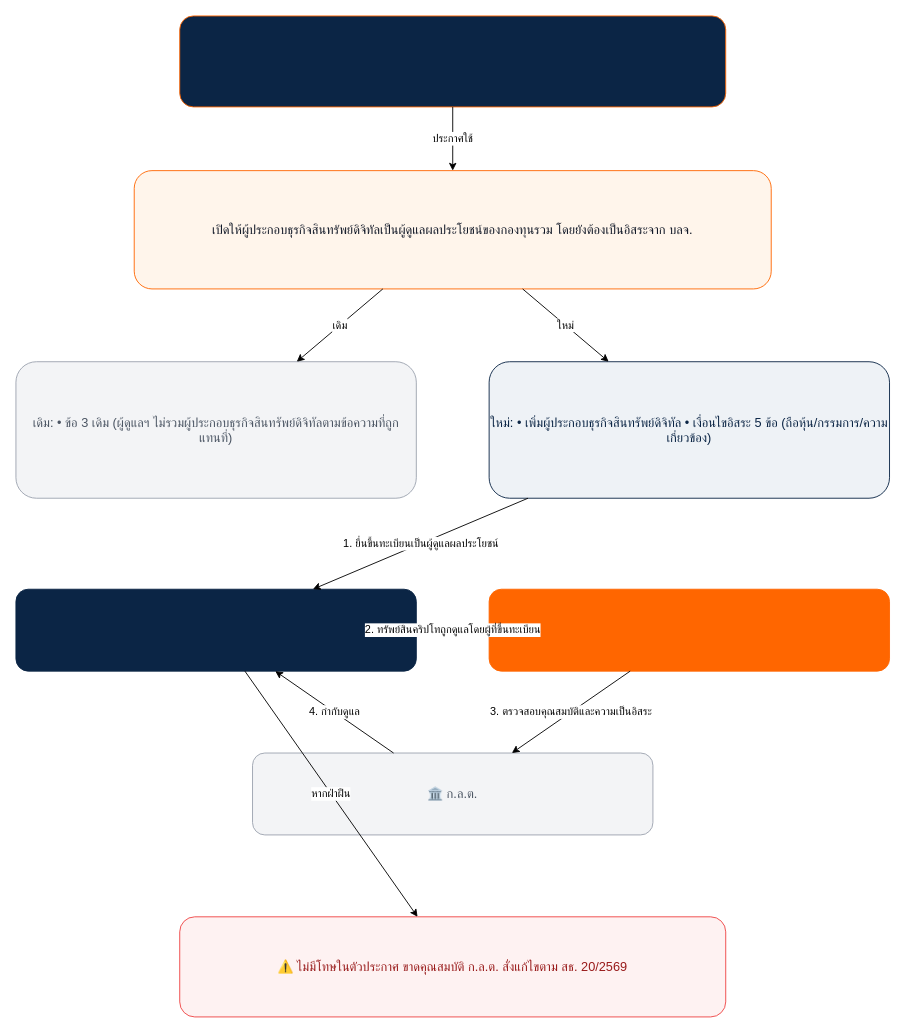
This 905x1033 diagram has some shape labels left out. The shapes that lost their labels are listed below. From the top down, each one's centre as x and y in pixels, then its label:
(x=452, y=61): สน.19/2569 DA Custodian เป็นผู้ดูแลผลประโยชน์ได้
(x=215, y=629): 🏢 DA Custodian
(x=689, y=629): 👤 ผู้ถือหน่วยลงทุน Crypto ETF
